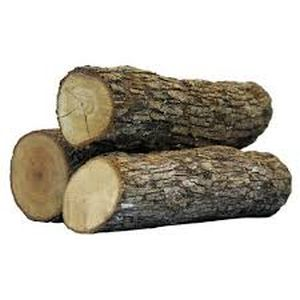log: (60, 152, 132, 238), (10, 131, 69, 226), (53, 65, 117, 147)
